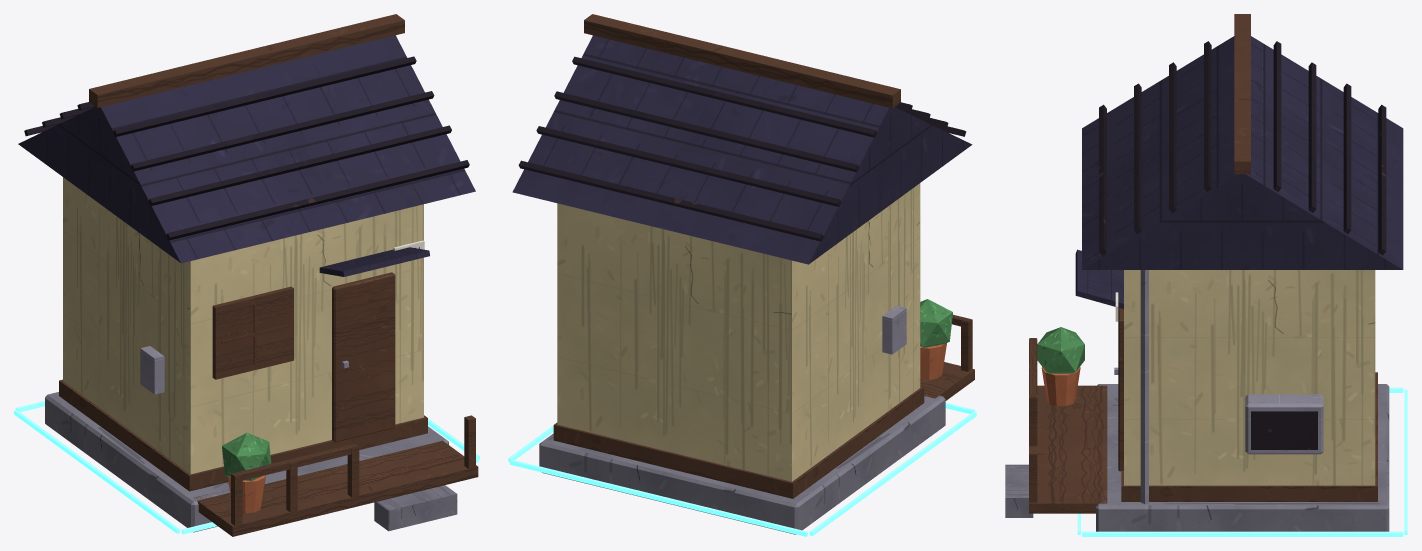
File: casa.glb
3 views of the same model, side by side, from view 1: azimuth 30°, elevation 25°; view 2: azimuth 150°, elevation 25°; view 3: azimuth 270°, elevation 25° (orthographic). The views are drawn at different scales.
Parts seen in each view (by area): view 1: casa; view 2: casa; view 3: casa.
Boxes of the visible parts, bbox=[...] form: casa: bbox=[14, 14, 479, 536]; casa: bbox=[508, 14, 976, 536]; casa: bbox=[1005, 14, 1407, 536].
Bounding box in the file's own units: 2.5 × 3.06 × 2.88.
4 materials, 2 textured.
